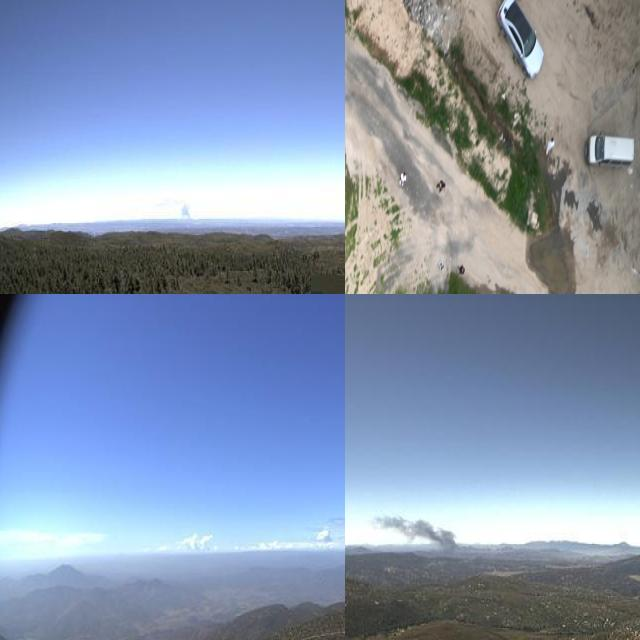smoke: (373, 507, 462, 556), (176, 202, 196, 224)
